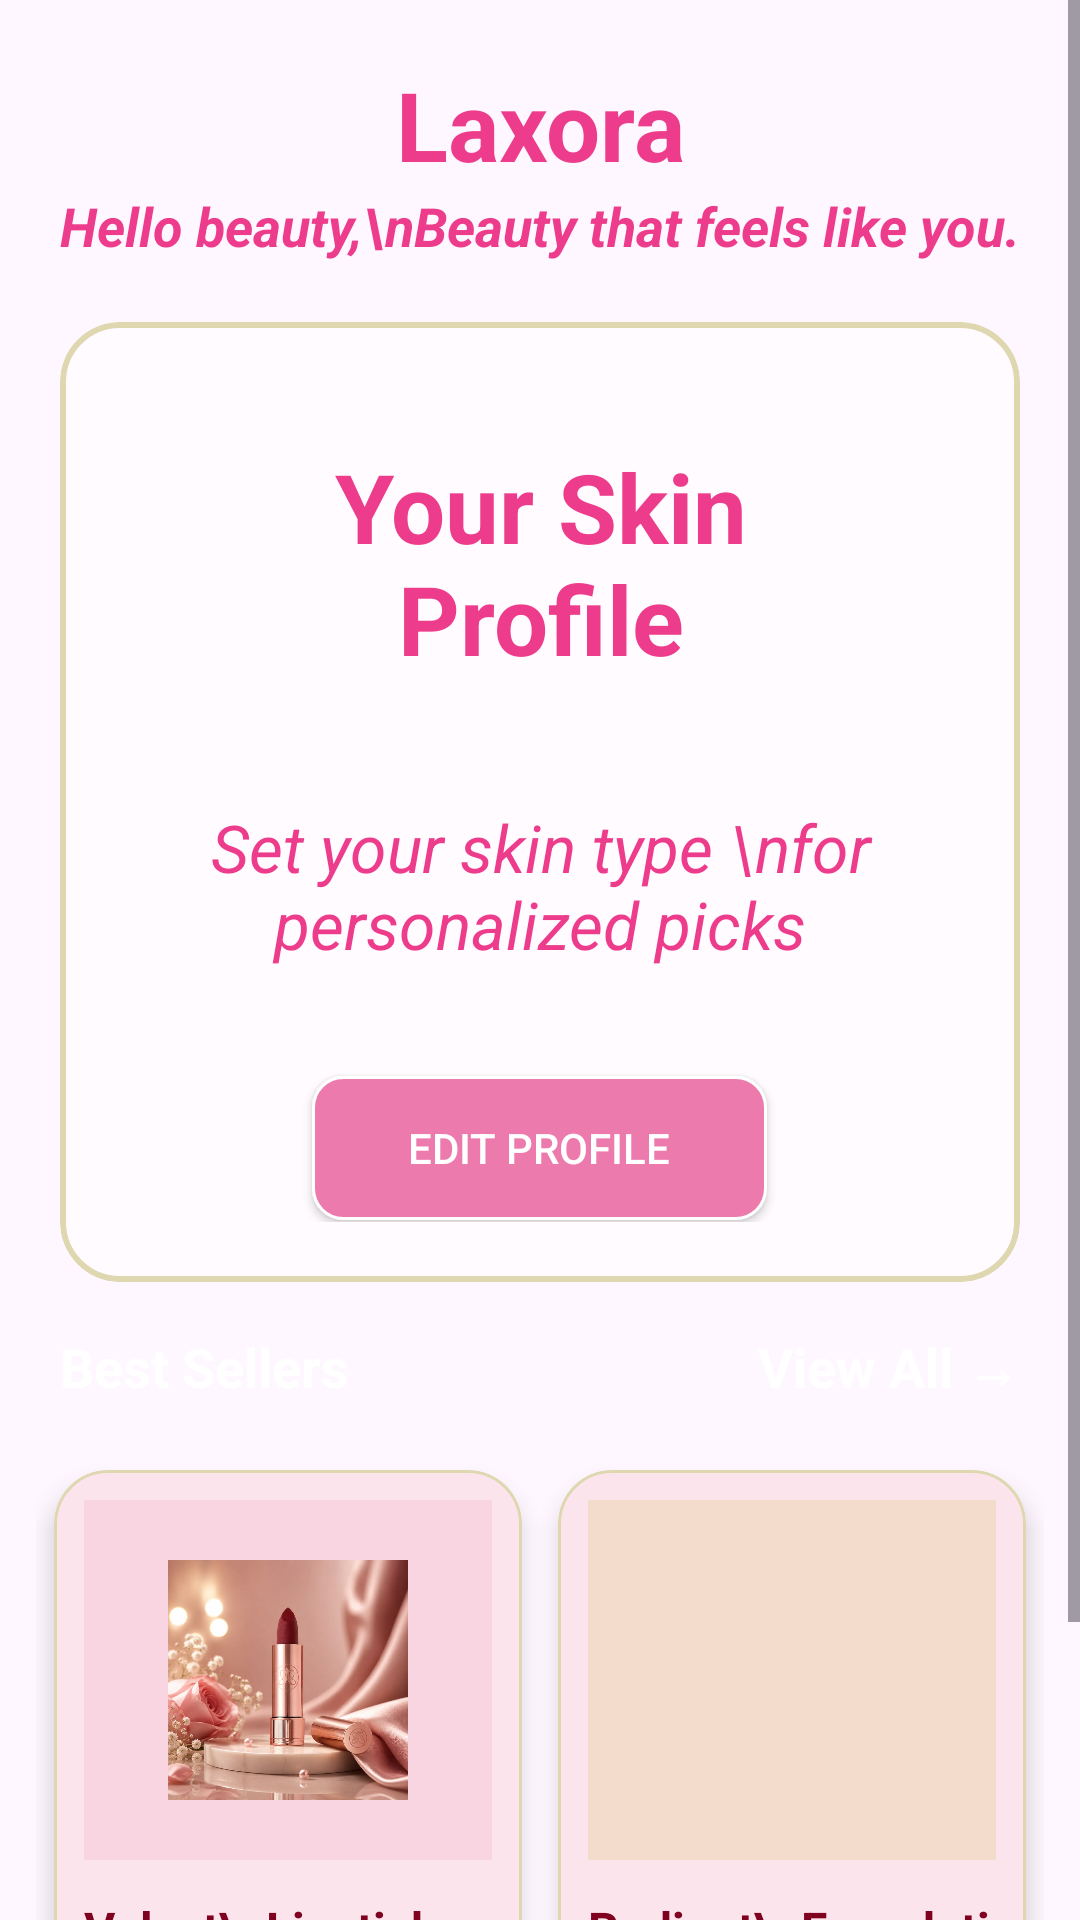

Screen size 1080w x 1920h. Icon name, then its box in pixels as detection(x1, y1, x2, y2):
Lipstick product image: detection(168, 1560, 408, 1800)
